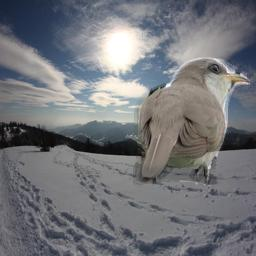Cuckoo: (133, 57, 250, 186)
